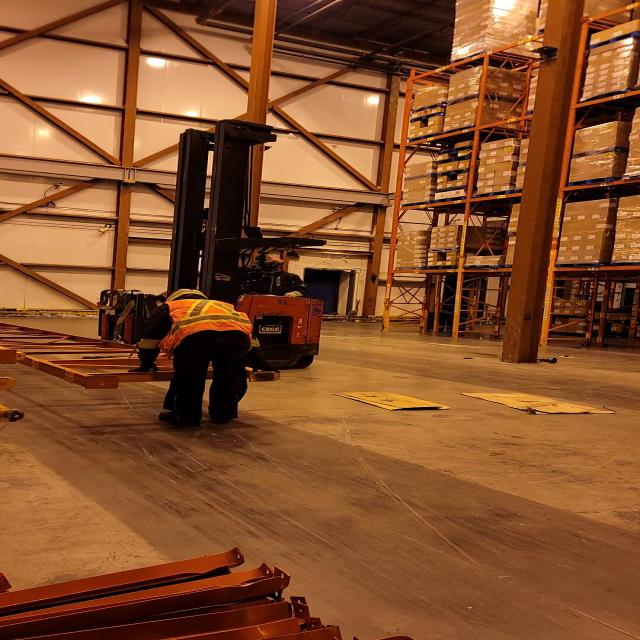forklift: (80, 128, 323, 371)
human: (124, 283, 264, 432), (227, 252, 318, 304)
objectofinterest: (0, 324, 286, 392), (458, 389, 616, 416), (332, 390, 455, 411)
